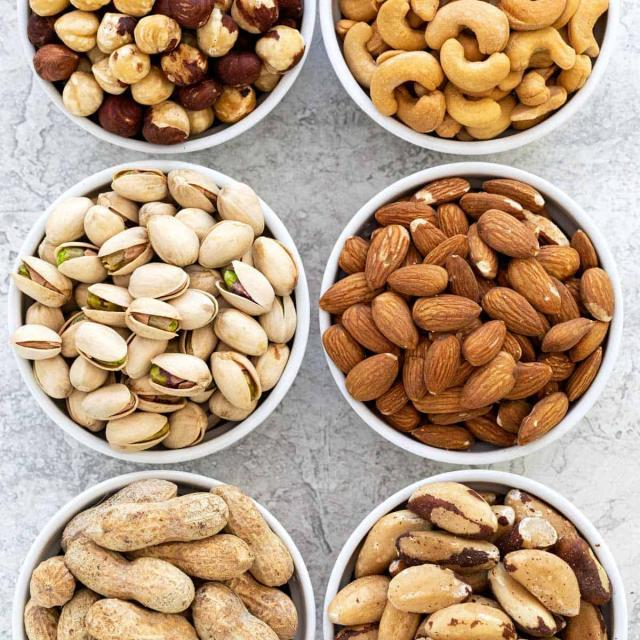Frutta secca: (15, 164, 303, 457), (328, 181, 616, 450), (16, 476, 294, 640), (336, 477, 608, 639), (27, 0, 316, 142), (335, 1, 612, 144)
